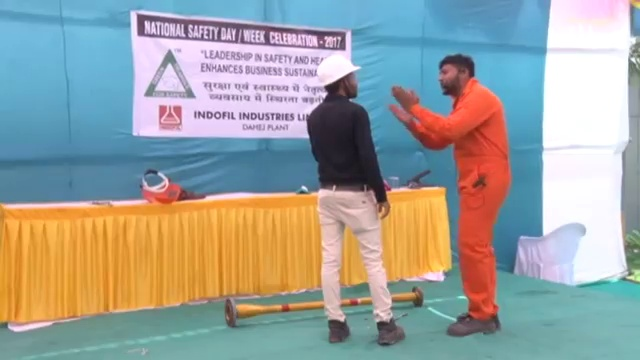helmet: (315, 53, 364, 87)
helmet_off: (439, 54, 475, 95)
helmet_on: (311, 53, 363, 102)
person: (382, 52, 515, 338), (299, 47, 408, 342)
